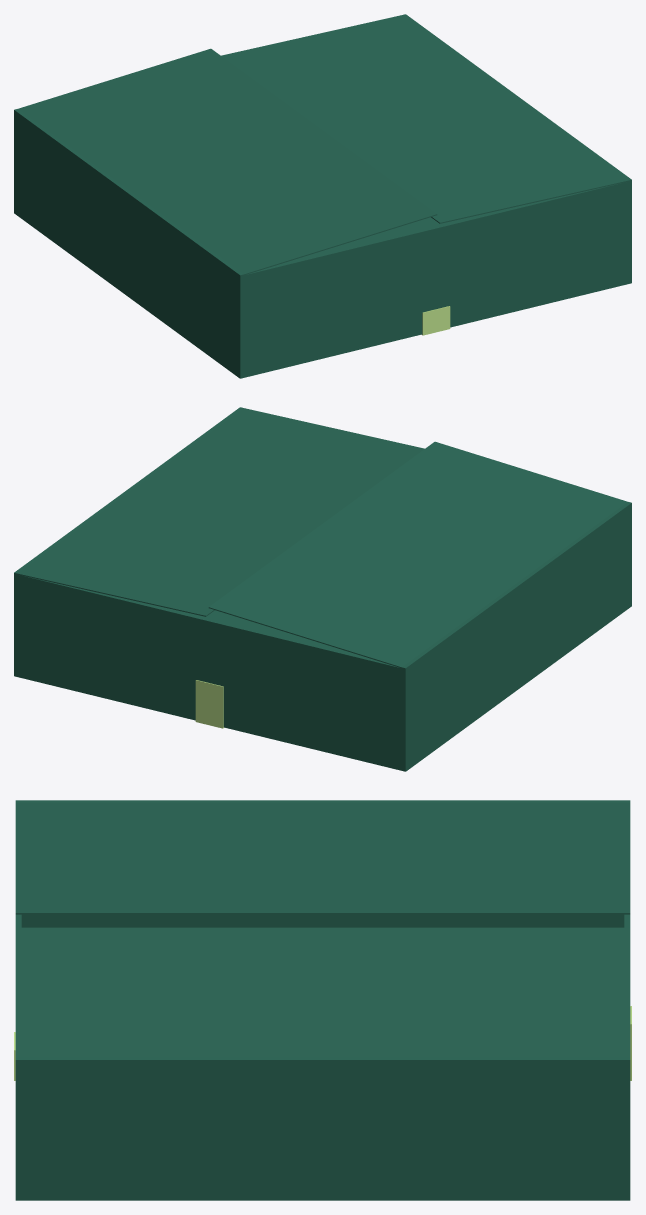
File: Flat Cardboard Box.fbx
3 renders of one model, top to bottom at view 1: azimuth 30°, elevation 25°; view 2: azimuth 150°, elevation 25°; view 3: azimuth 270°, elevation 25°, orthographic. The views are drawn at different scales.
Visible parts, largest first — view 1: Cube; view 2: Cube; view 3: Cube.
Boxes of the visible parts, box(x1,y1,x2,y2) form: Cube: box(14, 14, 631, 378); Cube: box(14, 407, 631, 771); Cube: box(14, 800, 631, 1200).
Size of the model in its own units: 100 by 28.66 by 101.
